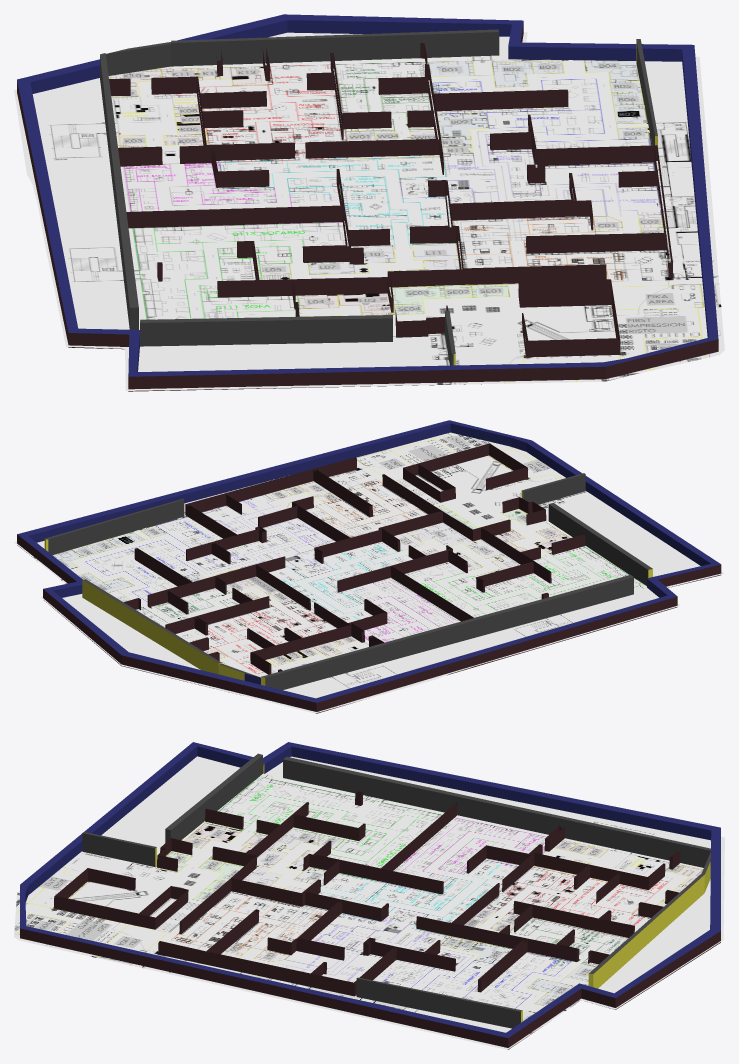
Rendered from ikea_villesa_floorwithplan_1.glb.
3 renders of one model, top to bottom at view 1: azimuth 30°, elevation 25°; view 2: azimuth 150°, elevation 25°; view 3: azimuth 270°, elevation 25°, orthographic. The views are drawn at different scales.
Visible parts, largest first — view 1: ikea_valessa_floor1, Ways; view 2: ikea_valessa_floor1, Ways; view 3: ikea_valessa_floor1, Ways.
Boxes of the visible parts, left/top/right/bottom form: ikea_valessa_floor1: left=14, top=32, right=724, bottom=390; Ways: left=17, top=14, right=718, bottom=391; ikea_valessa_floor1: left=14, top=432, right=724, bottom=713; Ways: left=17, top=420, right=721, bottom=713; ikea_valessa_floor1: left=14, top=756, right=724, bottom=1049; Ways: left=20, top=742, right=720, bottom=1049.
Bounding box in the file's own units: 120 × 3.83 × 120.
5 materials, 1 textured.
